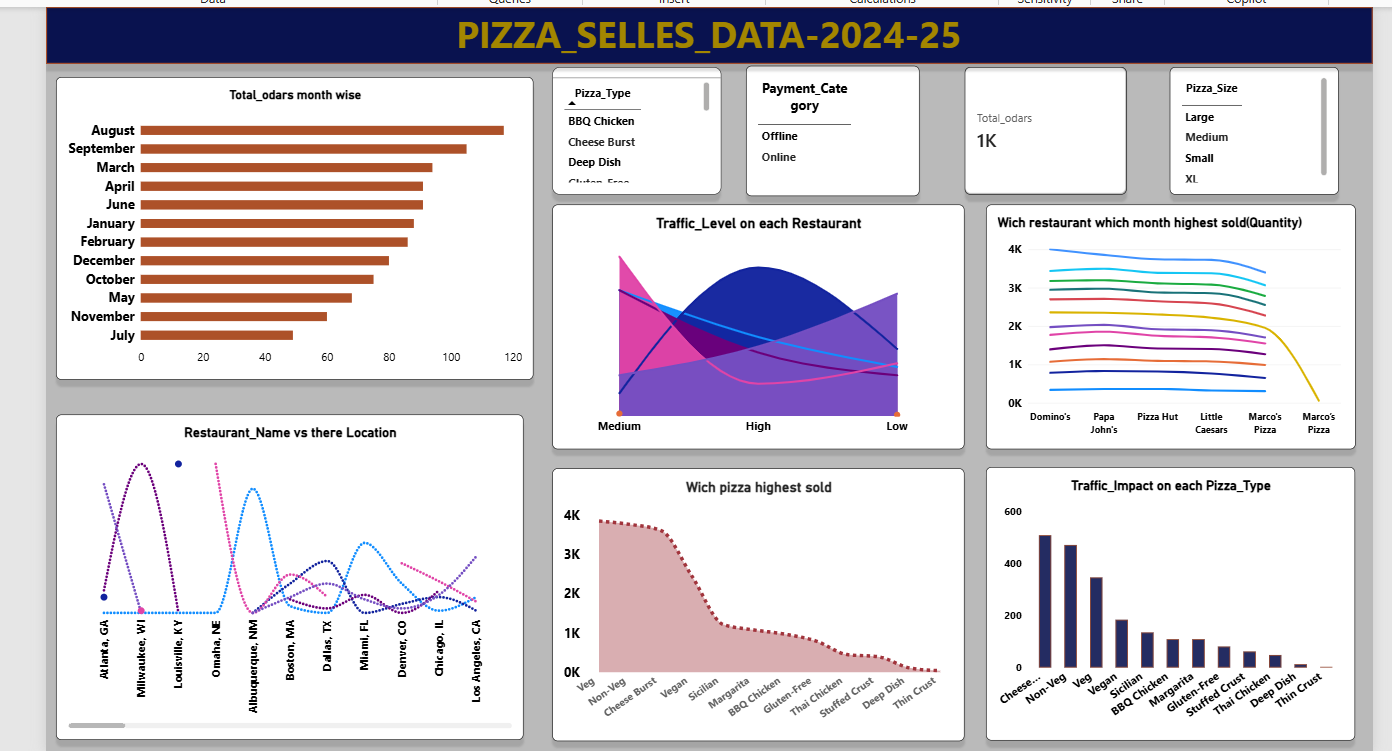

Layout of this report page (visuals, bound fields, positions):
{"tool":"powerbi","page":{"name":"Page 1","canvas":[1920,1080],"ordinal":0},"visuals":[{"type":"cardVisual","fields":{"Data":["Query1.Total_odars"]},"box":[1330.8,87.2,234.6,184.8],"z":0},{"type":"tableEx","fields":{"Values":["Query1.Pizza_Type"]},"box":[732.9,87.2,245,184.8],"z":1},{"type":"tableEx","fields":{"Values":["Query1.Payment_Category"]},"box":[1013.2,85.1,251.2,188.9],"z":2},{"type":"tableEx","fields":{"Values":["Query1.Pizza_Size"]},"box":[1627.7,87.2,245,184.8],"z":3},{"type":"textbox","box":[0,0,1920.4,82.3],"z":4},{"type":"clusteredBarChart","title":"Total_odars month wise","fields":{"Category":["Query1.Order_Month"],"Y":["Query1.Total_odars"]},"box":[14.4,100.9,691.6,438.4],"z":5},{"type":"lineChart","title":" Restaurant_Name vs there Location ","fields":{"Category":["Query1.Location"],"Series":["Query1.Restaurant_Name"],"Y2":["CountNonNull(Query1.Restaurant_Name)"]},"box":[14.5,589.6,677.2,471.4],"z":6},{"type":"areaChart","title":"Traffic_Level on each Restaurant","fields":{"Category":["Query1.Traffic_Level"],"Series":["Query1.Restaurant_Name"],"Y2":["CountNonNull(Query1.Traffic_Level)"]},"box":[732.8,286.1,596.9,354],"z":7},{"type":"stackedAreaChart","title":"Wich restaurant which month highest sold(Quantity)","fields":{"Category":["Query1.Restaurant_Name"],"Series":["Query1.Order_Month"],"Y":["Sum(Query1.Order_Hour)"]},"box":[1360.6,286.1,535.2,354],"z":9},{"type":"areaChart","title":"Wich pizza highest sold","fields":{"Category":["Query1.Pizza_Type"],"Y":["Sum(Query1.Order_Hour)"]},"box":[732.8,666.9,596.9,395.2],"z":10},{"type":"lineStackedColumnComboChart","title":" Traffic_Impact on each Pizza_Type","fields":{"Category":["Query1.Pizza_Type"],"Y":["Sum(Query1.Traffic_Impact)"]},"box":[1361.4,666.3,534.3,396],"z":11}]}

Visuals, with their boxes in screenshot pixels (x1, y1, x2, y2):
cardVisual - Query1.Total_odars: locate(959, 63, 1120, 190)
tableEx - Query1.Pizza_Type: locate(549, 63, 717, 190)
tableEx - Query1.Payment_Category: locate(741, 62, 913, 191)
tableEx - Query1.Pizza_Size: locate(1162, 63, 1330, 190)
textbox: locate(47, 4, 1363, 60)
"Total_odars month wise" clusteredBarChart: locate(57, 73, 531, 373)
" Restaurant_Name vs there Location " lineChart: locate(57, 408, 521, 731)
"Traffic_Level on each Restaurant" areaChart: locate(549, 200, 958, 442)
"Wich restaurant which month highest sold(Quantity)" stackedAreaChart: locate(979, 200, 1346, 442)
"Wich pizza highest sold" areaChart: locate(549, 461, 958, 731)
" Traffic_Impact on each Pizza_Type" lineStackedColumnComboChart: locate(980, 460, 1346, 731)
